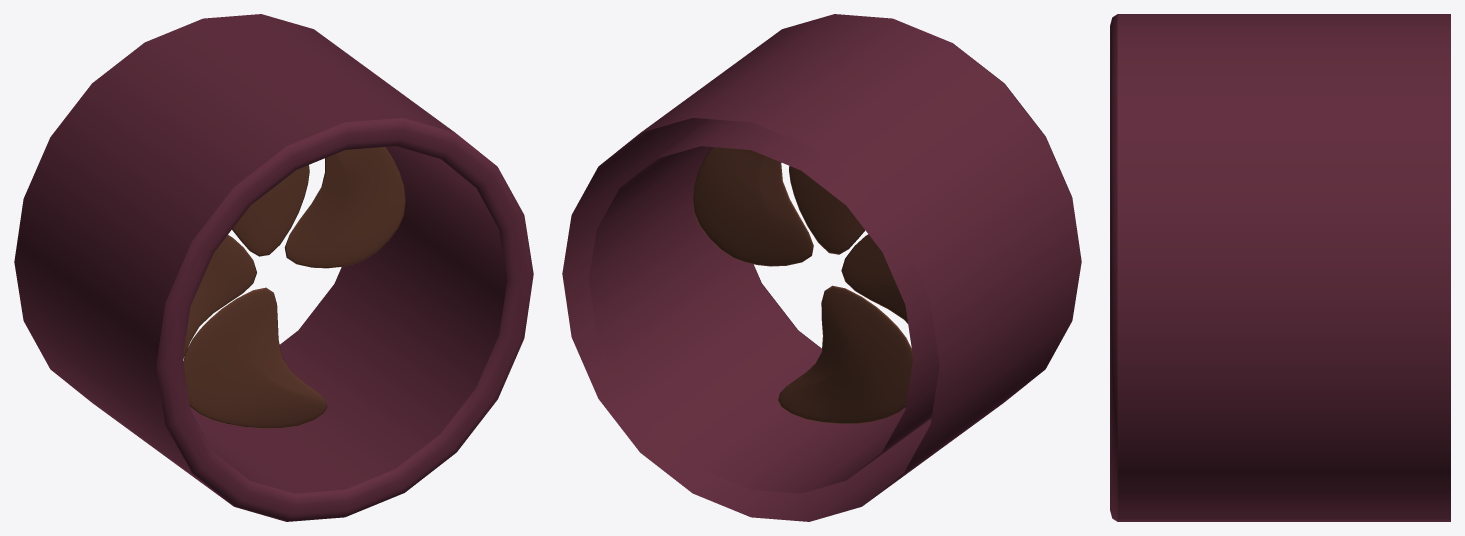
Rendered from SM_AerationHeliceManquante.fbx.
The picture shows the model from 3 angles, left to right: view 1: azimuth 30°, elevation 25°; view 2: azimuth 150°, elevation 25°; view 3: azimuth 270°, elevation 25°; orthographic projection. The views are drawn at different scales.
Visible parts, largest first — view 1: polySurface94; view 2: polySurface94; view 3: polySurface94.
Part boxes in pixels (<box>): polySurface94: <box>14,14,533,521</box>; polySurface94: <box>562,14,1081,521</box>; polySurface94: <box>1110,14,1450,521</box>.
Bounding box in the file's own units: 37.37 × 37.37 × 24.89.
